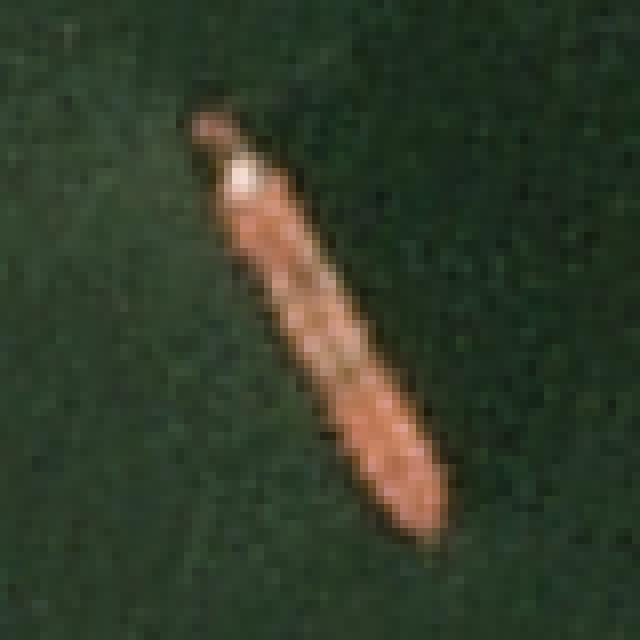ship: (152, 100, 508, 565)
